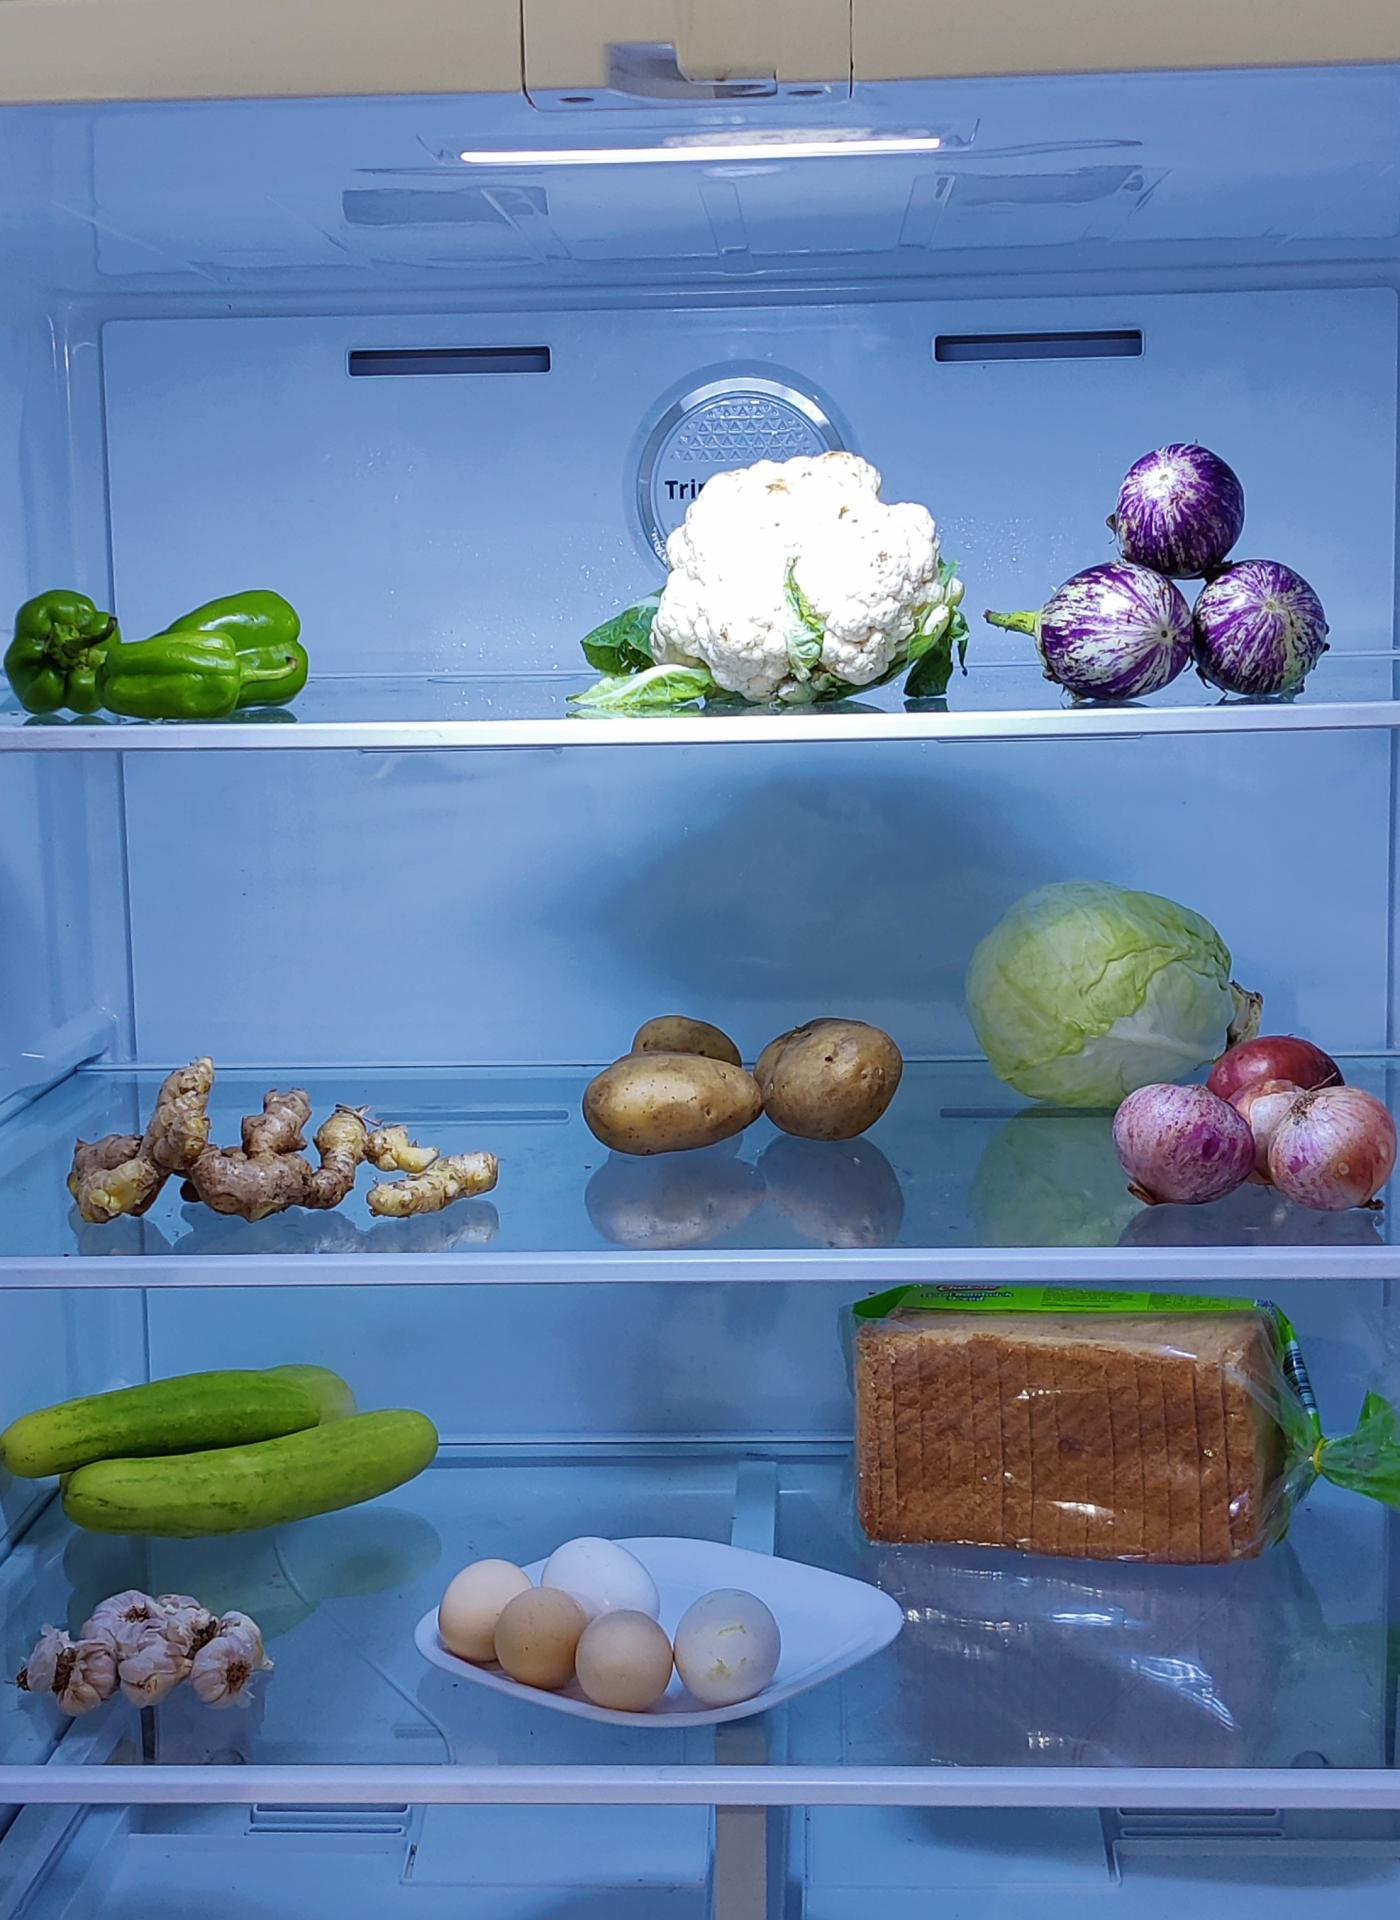bread: (848, 1286, 1314, 1577)
brinjal: (1017, 438, 1314, 696)
cabbage: (965, 887, 1254, 1109)
capsicum: (1, 572, 312, 721)
cauliflower: (652, 453, 953, 707)
cucumber: (10, 1351, 441, 1535)
egg: (443, 1547, 871, 1732), (429, 1535, 681, 1708)
garlic: (16, 1585, 270, 1713)
ginger: (70, 1058, 510, 1245)
onion: (1106, 1030, 1394, 1209)
potato: (581, 1006, 905, 1152)
